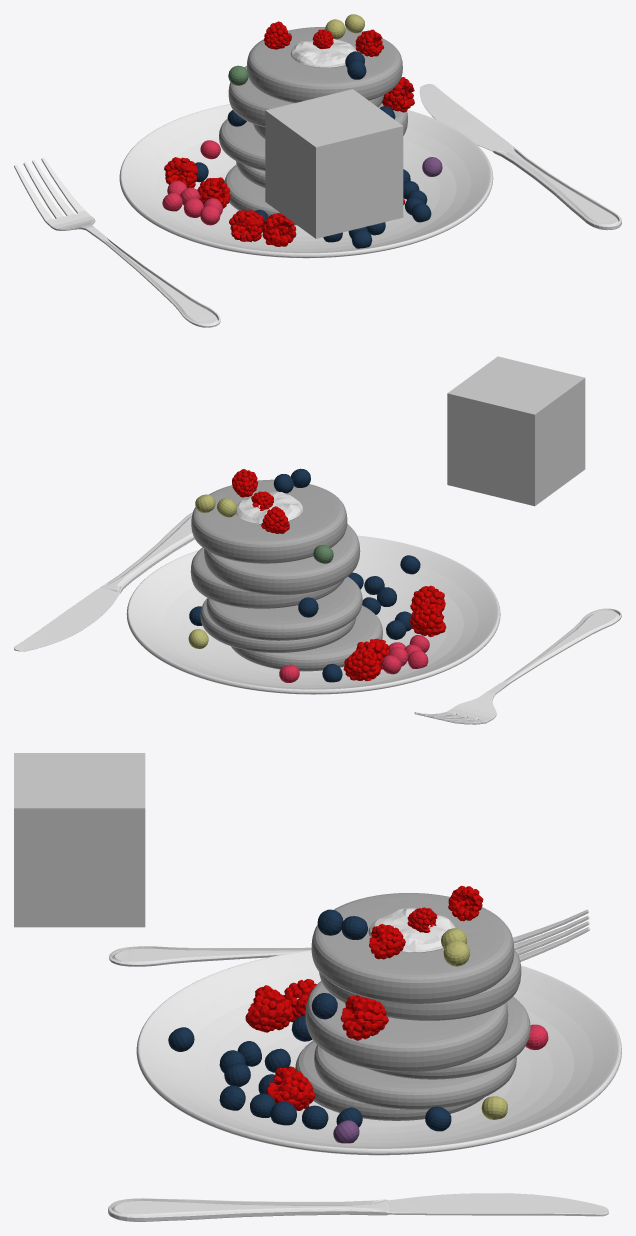
The model's file is uploads_files_1903167_Krep_With_Fruits.fbx.
3 renders of one model, top to bottom at view 1: azimuth 30°, elevation 25°; view 2: azimuth 150°, elevation 25°; view 3: azimuth 270°, elevation 25°, orthographic. The views are drawn at different scales.
Visible parts, largest first — view 1: tabak, Cube, krep2, bicak_knife, cilek, catal, krep, uzum, pembe_uzum, krema, cilek2, sari_uzum; view 2: tabak, Cube, krep2, krep, bicak_knife, uzum, catal, cilek, pembe_uzum, cilek2, krema, sari_uzum; view 3: tabak, krep2, Cube, krep, bicak_knife, uzum, cilek, catal, krema, sari_uzum, cilek2.
Boxes of the visible parts, left/top/right/bottom form: tabak: left=119, top=104, right=493, bottom=258; Cube: left=265, top=89, right=403, bottom=238; krep2: left=228, top=27, right=407, bottom=138; bicak_knife: left=419, top=84, right=621, bottom=230; cilek: left=164, top=21, right=414, bottom=246; catal: left=14, top=157, right=220, bottom=327; krep: left=219, top=118, right=296, bottom=225; uzum: left=195, top=51, right=431, bottom=248; pembe_uzum: left=162, top=140, right=222, bottom=225; krema: left=290, top=39, right=356, bottom=67; cilek2: left=229, top=29, right=333, bottom=242; sari_uzum: left=325, top=14, right=364, bottom=39; tabak: left=126, top=535, right=500, bottom=694; Cube: left=447, top=356, right=585, bottom=506; krep2: left=190, top=479, right=360, bottom=608; krep: left=200, top=576, right=382, bottom=671; bicak_knife: left=14, top=512, right=194, bottom=651; uzum: left=189, top=468, right=420, bottom=682; catal: left=414, top=608, right=621, bottom=724; cilek: left=232, top=469, right=445, bottom=681; pembe_uzum: left=279, top=635, right=429, bottom=682; cilek2: left=251, top=491, right=446, bottom=637; krema: left=235, top=491, right=302, bottom=524; sari_uzum: left=188, top=494, right=237, bottom=648; tabak: left=136, top=950, right=621, bottom=1155; krep2: left=305, top=893, right=521, bottom=1072; Cube: left=14, top=753, right=145, bottom=927; krep: left=295, top=996, right=530, bottom=1120; bicak_knife: left=108, top=1193, right=608, bottom=1221; uzum: left=168, top=909, right=451, bottom=1131; cilek: left=245, top=885, right=483, bottom=1110; catal: left=109, top=909, right=589, bottom=966; krema: left=368, top=908, right=455, bottom=952; sari_uzum: left=441, top=928, right=507, bottom=1119; cilek2: left=283, top=907, right=437, bottom=1022.
Size of what is drawn, in the model's own units: 995 by 422 by 926.
